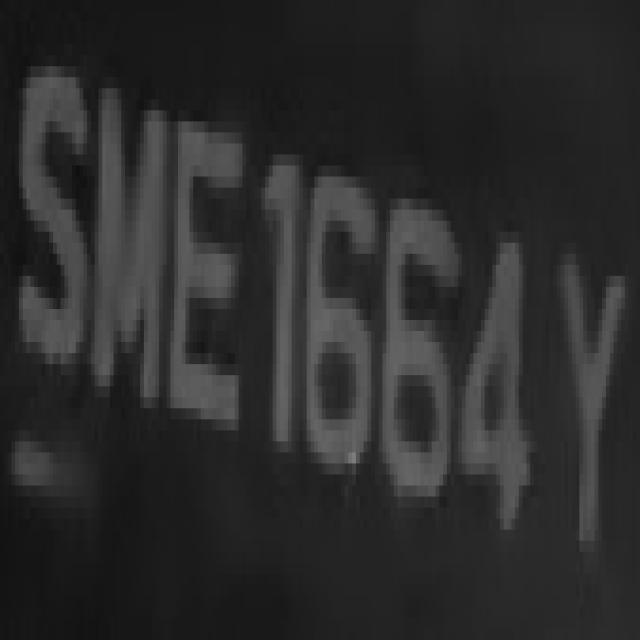1: (258, 121, 299, 508)
4: (466, 166, 541, 552)
6: (295, 144, 379, 540), (386, 176, 458, 518)
E: (167, 89, 250, 464)
M: (91, 55, 174, 419)
S: (7, 33, 91, 408)
Y: (545, 199, 625, 607)
